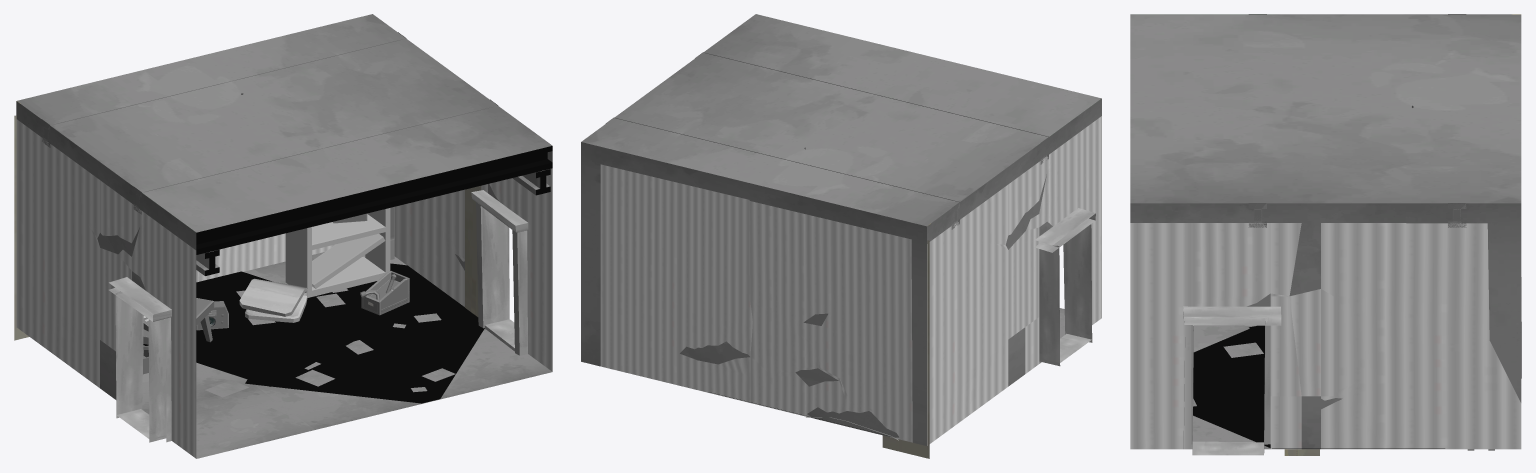
The model's file is MSH_QuestFilly_L2_R1_optimized.fbx.
The picture shows the model from 3 angles, left to right: view 1: azimuth 30°, elevation 25°; view 2: azimuth 150°, elevation 25°; view 3: azimuth 270°, elevation 25°; orthographic projection. The views are drawn at different scales.
Visible parts, largest first — view 1: lightmap1, lightmap8, lightmap5, lightmap2, lightmap0, lightmap4, lightmap10; view 2: lightmap8, lightmap1, lightmap2, lightmap5, lightmap10; view 3: lightmap8, lightmap1, lightmap5, lightmap2, lightmap4, lightmap10, lightmap0.
Boxes of the visible parts, left/top/right/bottom form: lightmap1: left=17, top=14, right=552, bottom=232; lightmap8: left=16, top=101, right=552, bottom=458; lightmap5: left=14, top=115, right=484, bottom=403; lightmap2: left=109, top=190, right=528, bottom=442; lightmap0: left=196, top=146, right=552, bottom=421; lightmap4: left=142, top=252, right=551, bottom=458; lightmap10: left=41, top=32, right=550, bottom=374; lightmap8: left=581, top=98, right=1101, bottom=445; lightmap1: left=581, top=14, right=1101, bottom=226; lightmap2: left=1035, top=208, right=1095, bottom=366; lightmap5: left=710, top=240, right=929, bottom=458; lightmap10: left=605, top=52, right=1048, bottom=229; lightmap8: left=1130, top=203, right=1521, bottom=449; lightmap1: left=1130, top=14, right=1521, bottom=203; lightmap5: left=1193, top=322, right=1521, bottom=455; lightmap2: left=1183, top=306, right=1281, bottom=455; lightmap4: left=1191, top=325, right=1270, bottom=449; lightmap10: left=1248, top=14, right=1494, bottom=450; lightmap0: left=1193, top=277, right=1521, bottom=406.
Size of the model in its own units: 10.7 by 6.25 by 8.49.
Materials: 6 (4 with a texture image).
